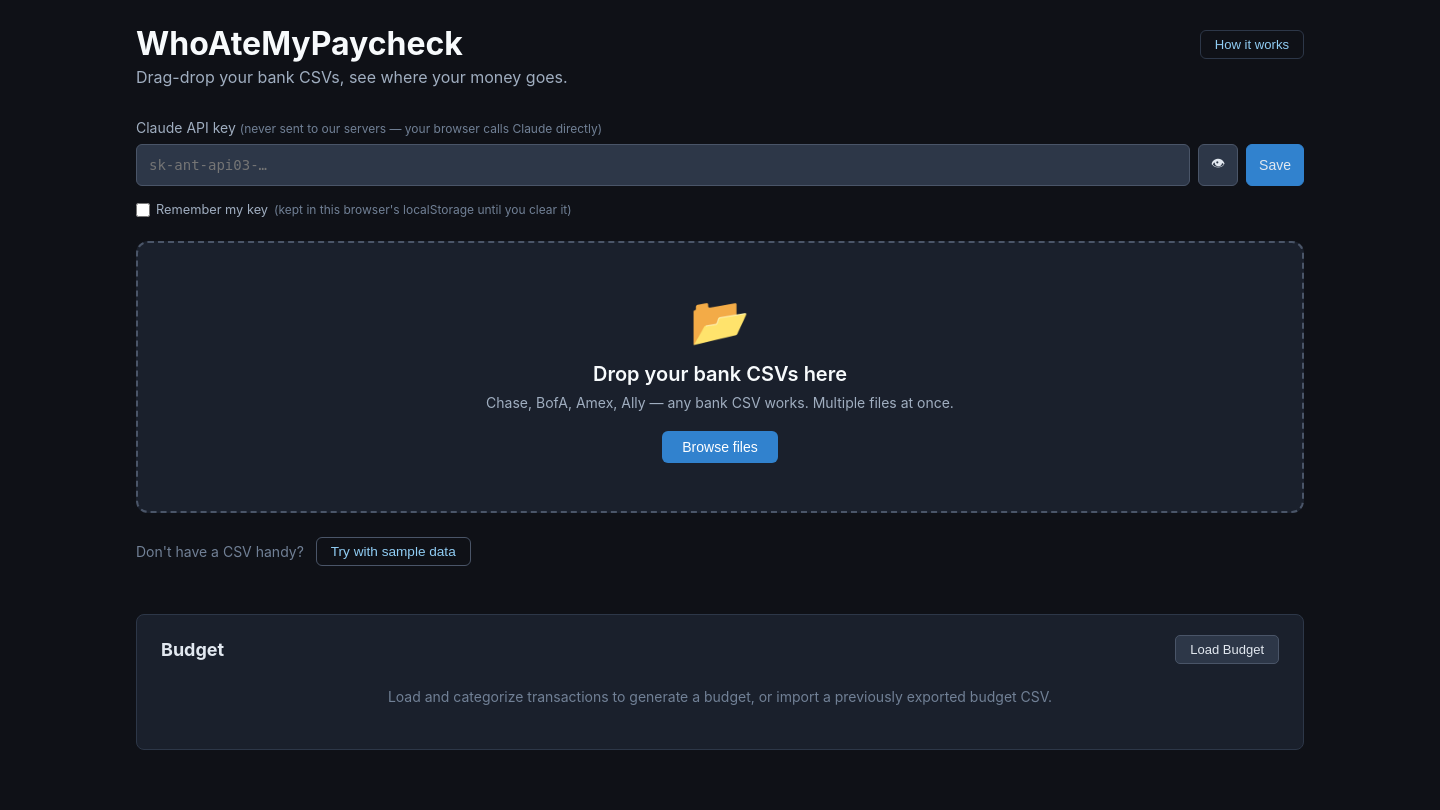
Scenario: App — demo mode › rejects an HTML response (e.g. an SPA-fallback 200) instead of entering demo mode
Click the button "Try with sample data". click: x=393, y=552
box: [316,537,471,566]
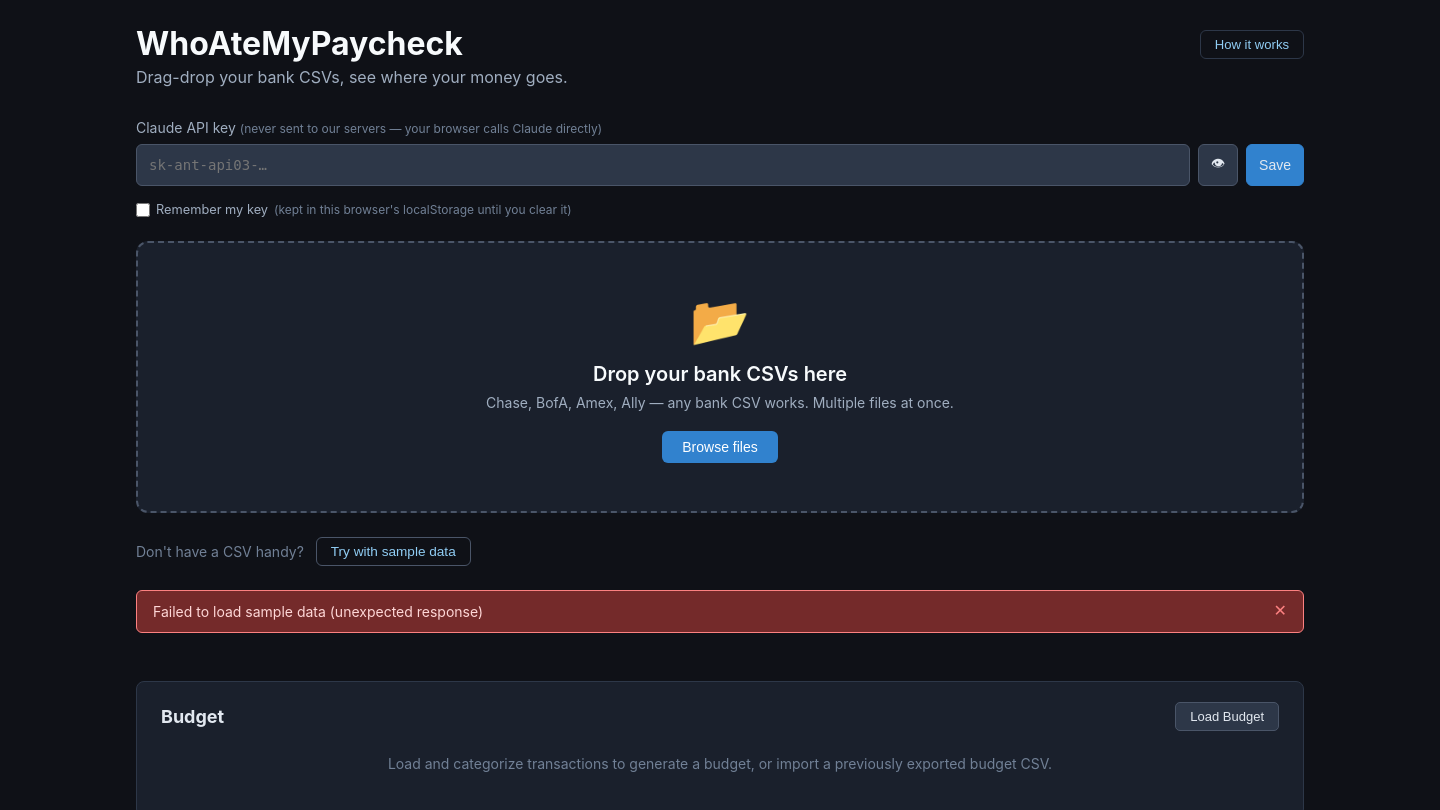
Result: the text "Failed to load sample data (unexpected response)" is shown at [153,603,483,620]
